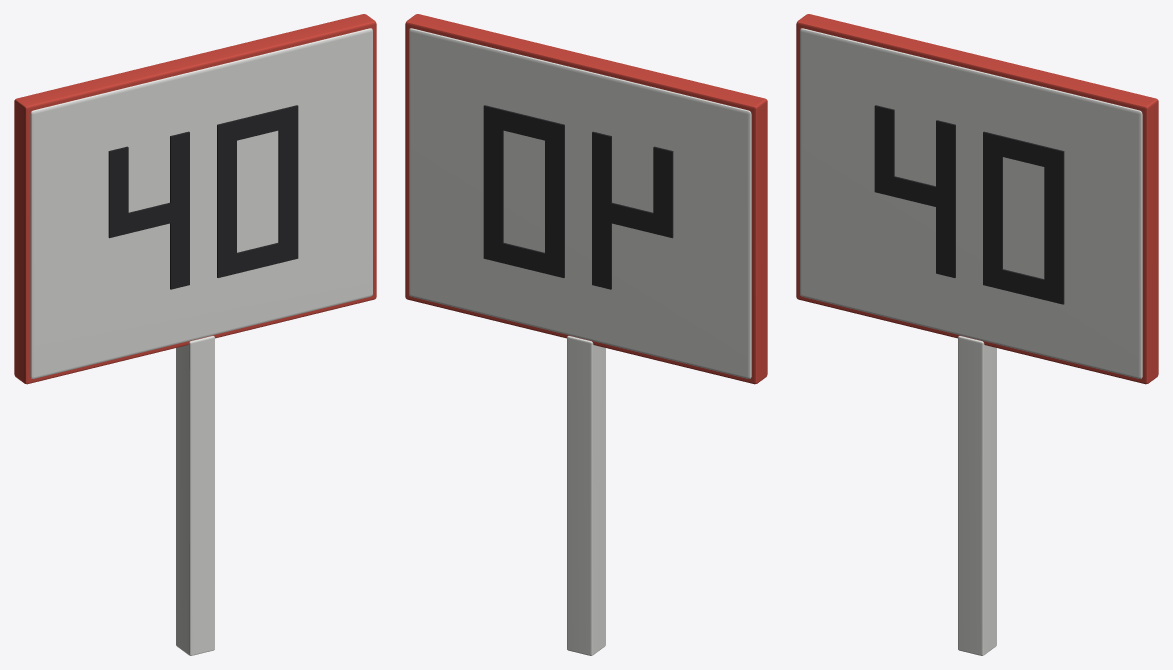
The model's file is yard_board_40.glb.
3 views of the same model, side by side, from view 1: azimuth 30°, elevation 25°; view 2: azimuth 150°, elevation 25°; view 3: azimuth 330°, elevation 25° (orthographic).
Visible parts, largest first — view 1: SM_yard_board_40; view 2: SM_yard_board_40; view 3: SM_yard_board_40.
Boxes of the visible parts, left/top/right/bottom form: SM_yard_board_40: left=14, top=14, right=376, bottom=655; SM_yard_board_40: left=405, top=14, right=767, bottom=655; SM_yard_board_40: left=796, top=14, right=1158, bottom=655.
Bounding box in the file's own units: 0.82 × 1.31 × 0.068.
